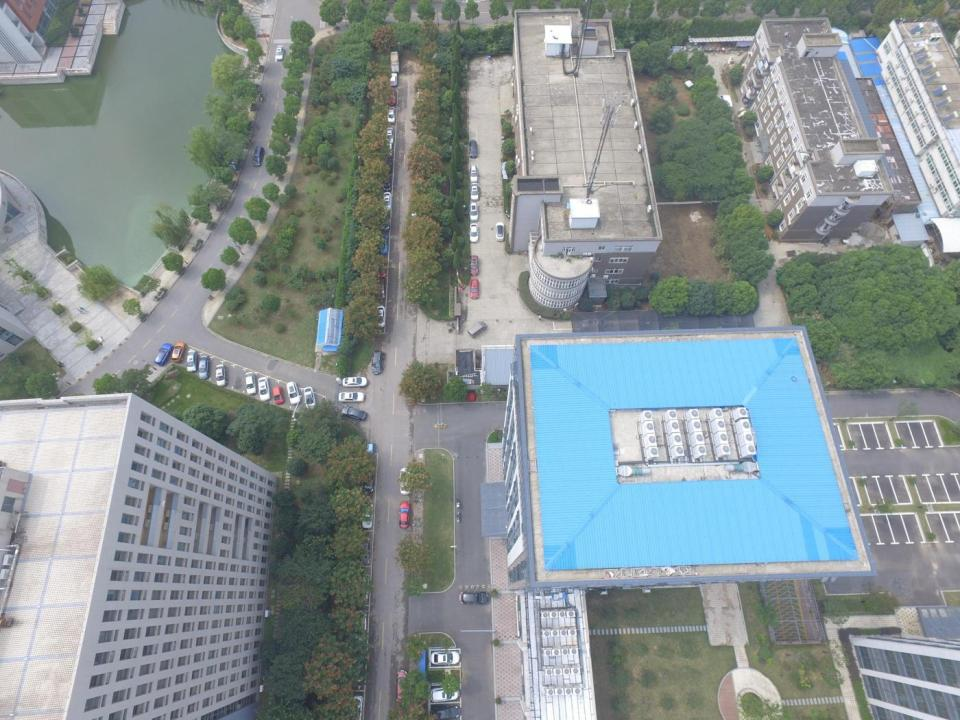car: (430, 686, 458, 702), (154, 343, 173, 366), (431, 651, 460, 666), (341, 405, 367, 421), (431, 705, 458, 720), (396, 670, 408, 703), (349, 654, 363, 682), (353, 610, 366, 640), (460, 591, 490, 604), (356, 574, 369, 603), (398, 467, 411, 495), (286, 381, 301, 405), (359, 536, 371, 566), (370, 350, 384, 374), (198, 355, 211, 379), (258, 376, 271, 400), (172, 341, 186, 363), (214, 364, 228, 386), (639, 316, 667, 327), (351, 695, 363, 720), (303, 386, 316, 409), (399, 501, 410, 528), (244, 372, 257, 394), (342, 376, 368, 387), (361, 503, 372, 528), (252, 146, 265, 167), (338, 392, 365, 402), (581, 318, 607, 328), (719, 315, 742, 326), (374, 278, 386, 299), (187, 350, 198, 372), (364, 469, 374, 492), (375, 306, 385, 328), (468, 223, 479, 243), (365, 442, 376, 461), (376, 257, 386, 277), (469, 202, 479, 222), (470, 278, 479, 300), (380, 212, 390, 231), (382, 192, 392, 211), (495, 222, 505, 241), (470, 255, 479, 276), (273, 387, 284, 404), (379, 234, 388, 254), (468, 140, 478, 158), (470, 182, 479, 201), (386, 107, 396, 124), (382, 175, 392, 191), (469, 165, 478, 182), (275, 46, 285, 61), (384, 150, 393, 166), (388, 89, 396, 106), (386, 128, 394, 144), (390, 73, 398, 86)
truck: (390, 51, 400, 73)
van: (670, 316, 698, 329), (468, 321, 487, 338), (719, 95, 733, 111)
